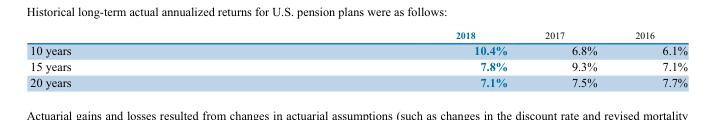table: (29, 29, 687, 88)
table column: (262, 29, 525, 88), (29, 29, 262, 88), (525, 29, 615, 88), (615, 29, 687, 88)
table column header: (29, 29, 687, 41)
table row: (29, 41, 687, 58), (29, 58, 687, 73), (29, 73, 687, 88), (29, 29, 687, 41)
